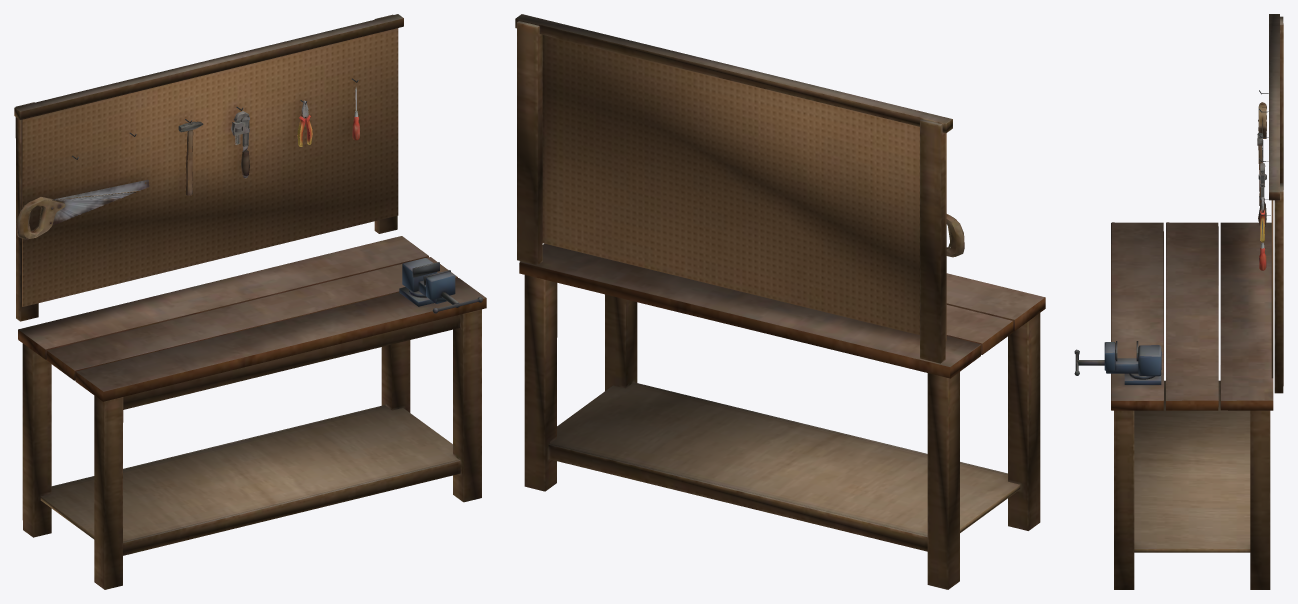
The model's file is workbench-low.glb.
3 renders of one model, left to right at view 1: azimuth 30°, elevation 25°; view 2: azimuth 150°, elevation 25°; view 3: azimuth 270°, elevation 25°, orthographic. The views are drawn at different scales.
Visible parts, largest first — view 1: workbench-low; view 2: workbench-low; view 3: workbench-low.
Boxes of the visible parts, left/top/right/bottom form: workbench-low: left=14, top=14, right=486, bottom=589; workbench-low: left=515, top=14, right=1045, bottom=589; workbench-low: left=1074, top=14, right=1283, bottom=589.
Bounding box in the file's own units: 1.83 × 1.88 × 0.8905.
1 material, 1 textured.
